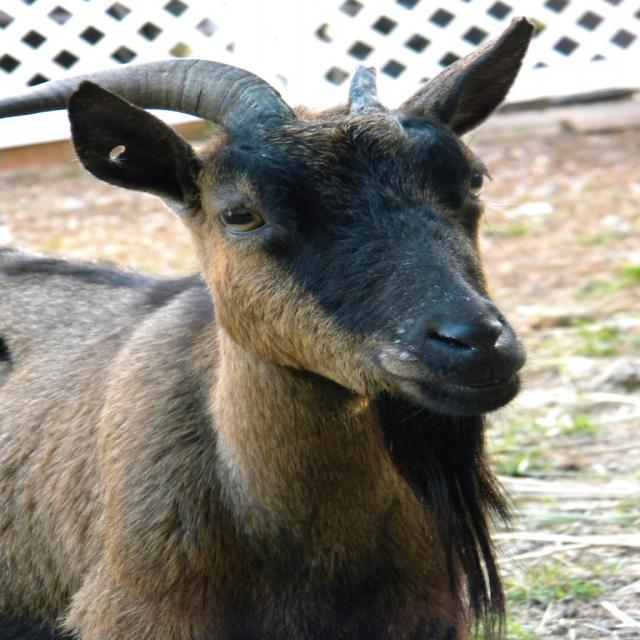Goat: (0, 16, 534, 634)
